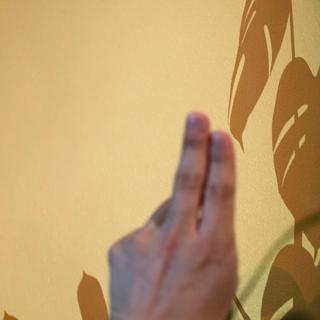DHAVE: (95, 103, 247, 320)
